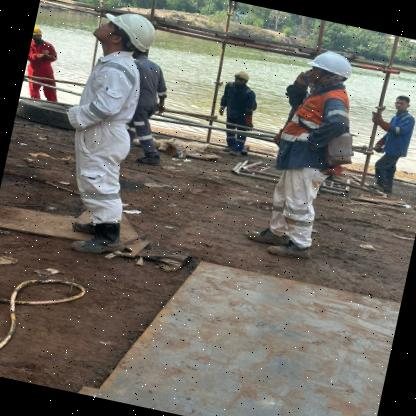bota: (67, 213, 130, 260), (264, 236, 314, 262), (244, 226, 290, 248), (70, 215, 102, 236), (138, 150, 164, 167), (369, 176, 387, 192), (226, 146, 243, 157), (382, 179, 394, 193), (220, 143, 233, 152)
